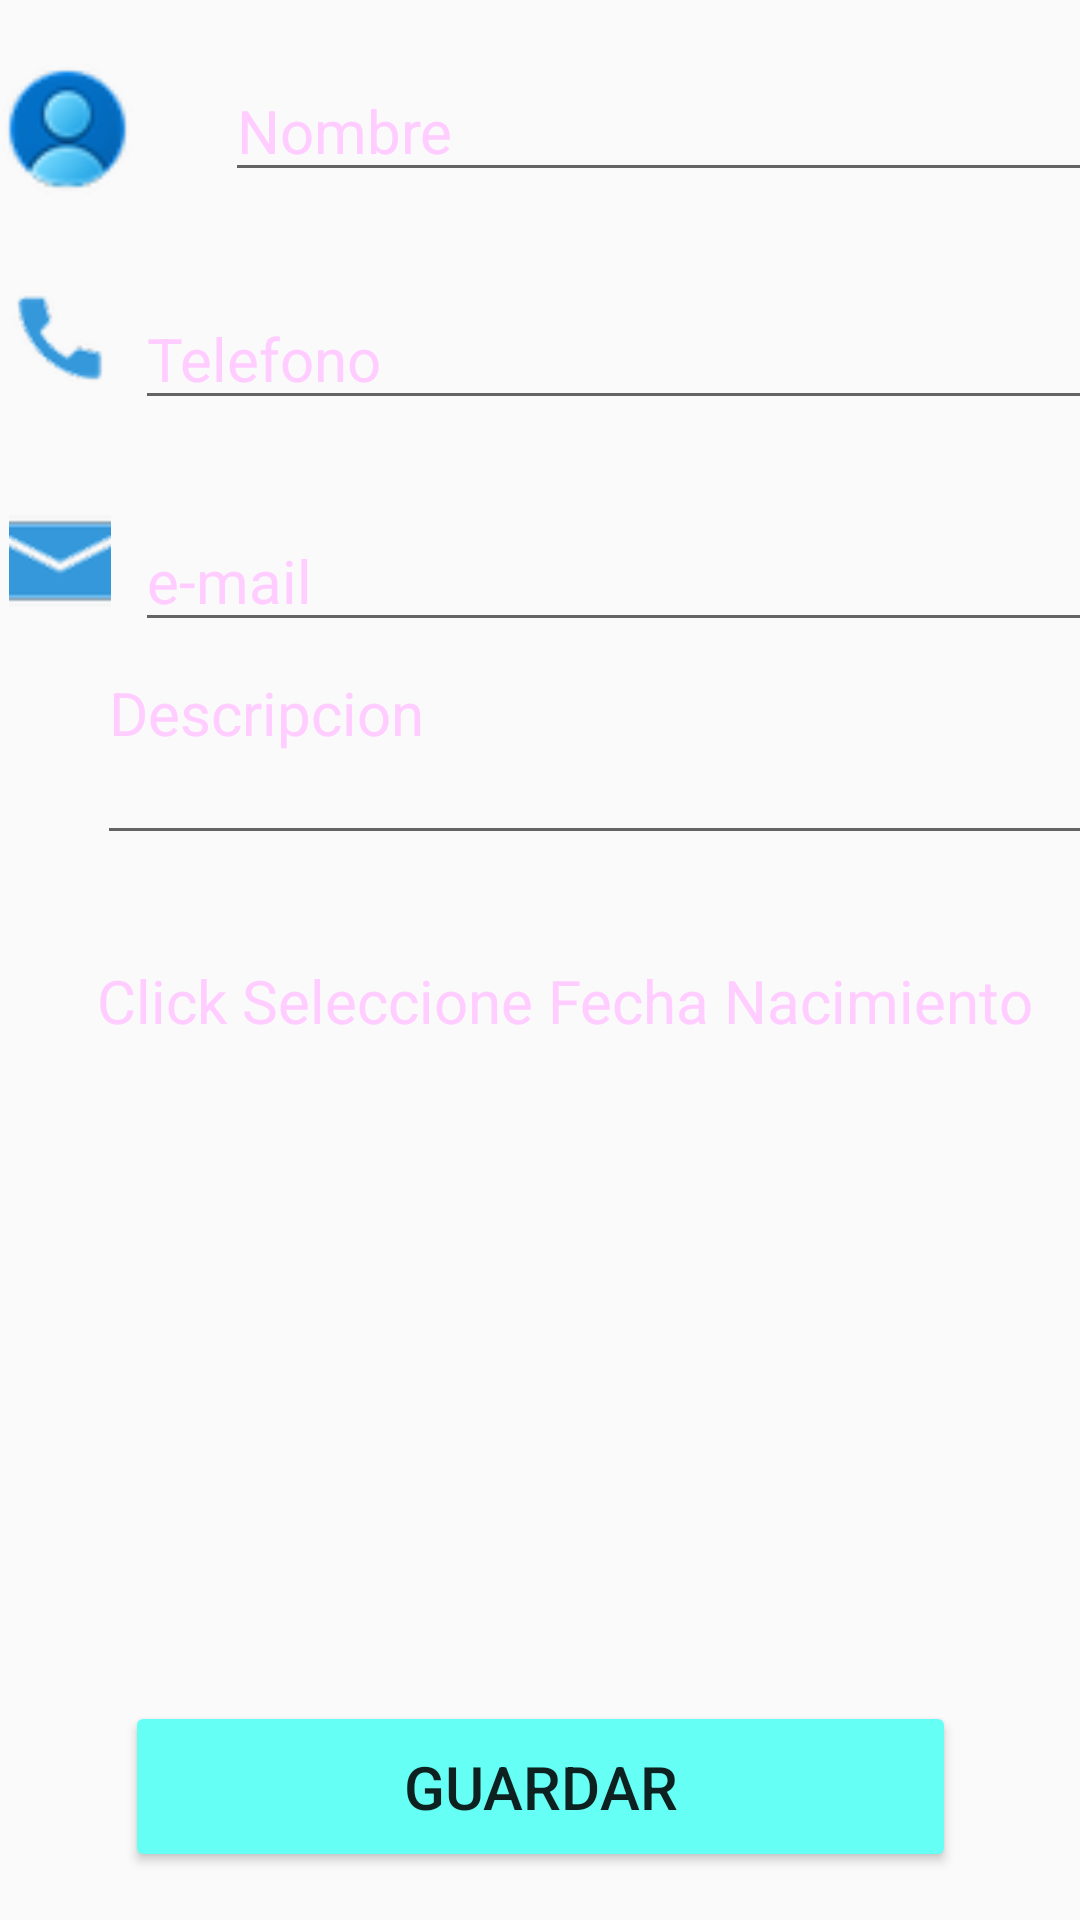

Screen size 1080x1920. Icon name, then its center in pixels as [x,y]:
coreo: [60,561]
persona: [67,129]
